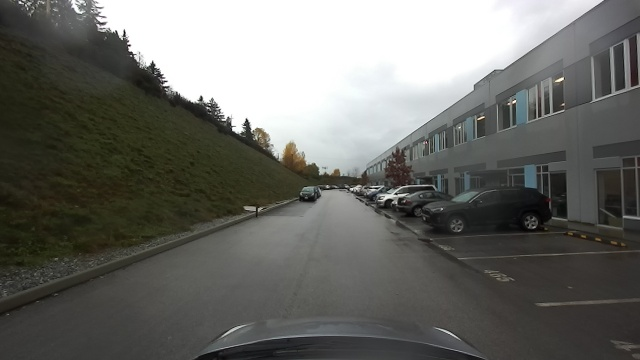car: (424, 186, 553, 238), (373, 185, 438, 205), (393, 193, 418, 217), (297, 182, 319, 203), (361, 187, 380, 201)
